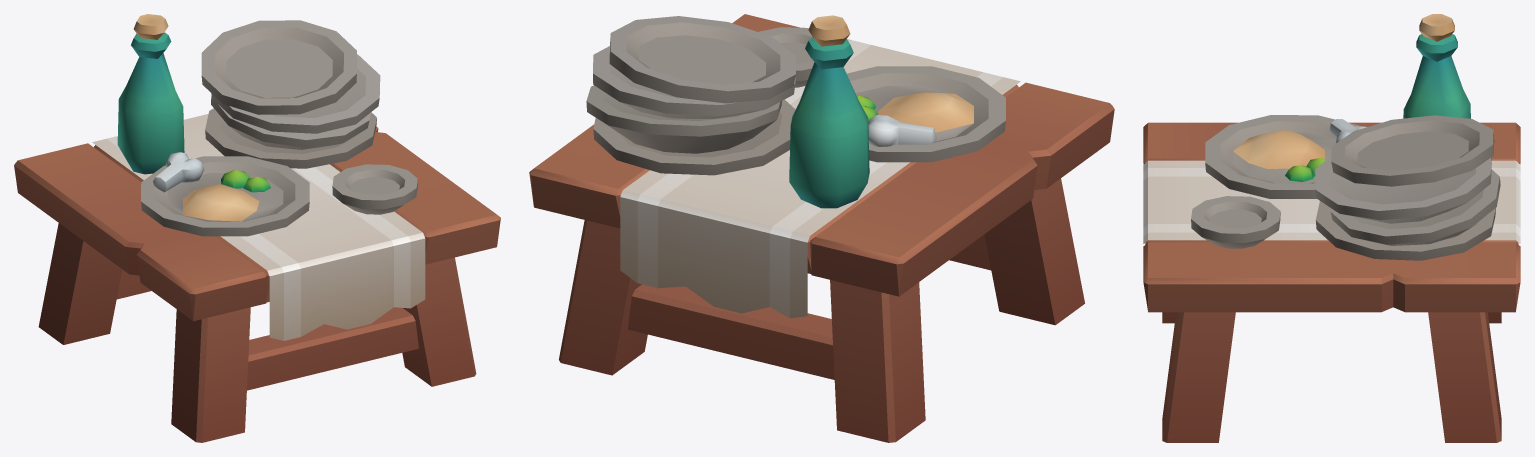
File: table_medium_tablecloth_decorated_B.gltf
The picture shows the model from 3 angles, left to right: view 1: azimuth 30°, elevation 25°; view 2: azimuth 150°, elevation 25°; view 3: azimuth 270°, elevation 25°; orthographic projection. The views are drawn at different scales.
Visible parts, largest first — view 1: table_medium_tablecloth_decorated_B; view 2: table_medium_tablecloth_decorated_B; view 3: table_medium_tablecloth_decorated_B.
Boxes of the visible parts, left/top/right/bottom form: table_medium_tablecloth_decorated_B: left=14, top=14, right=500, bottom=442; table_medium_tablecloth_decorated_B: left=529, top=14, right=1114, bottom=442; table_medium_tablecloth_decorated_B: left=1143, top=14, right=1520, bottom=442.
Bounding box in the file's own units: 2 × 1.89 × 2.
Materials: 1 (1 with a texture image).
